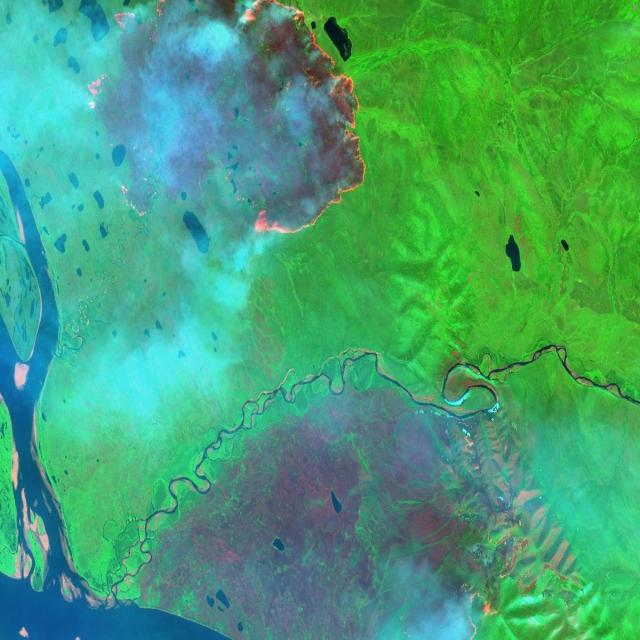fire: (79, 0, 370, 261), (450, 525, 516, 640)
